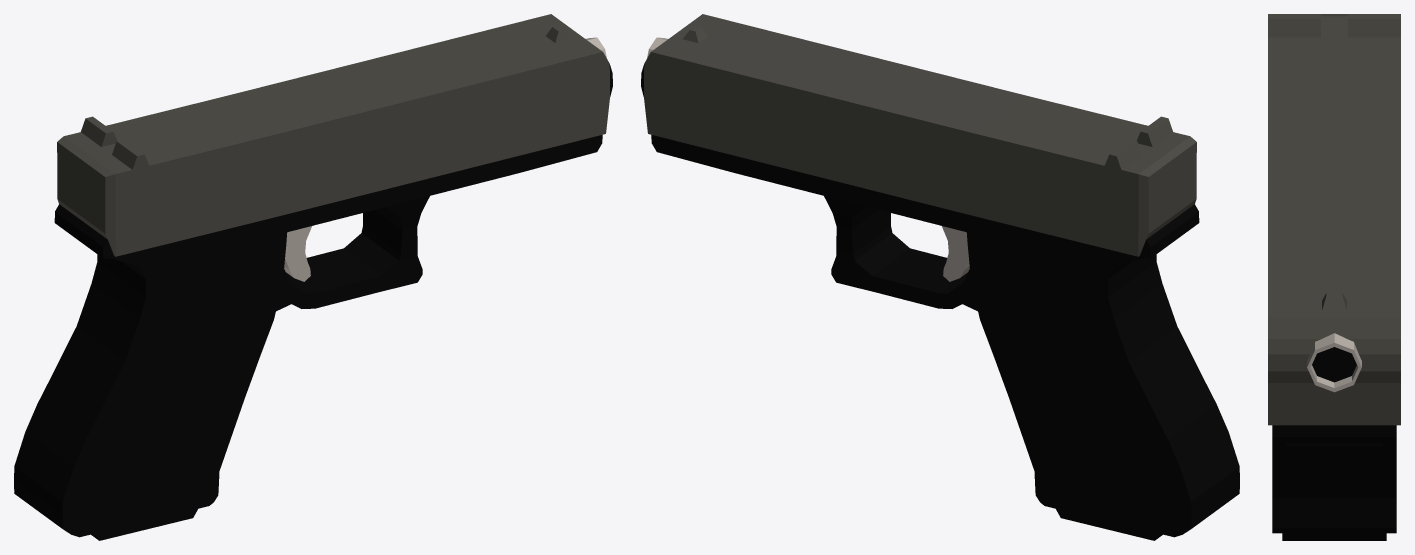
Rendered from pistol til vr.fbx.
The picture shows the model from 3 angles, left to right: view 1: azimuth 30°, elevation 25°; view 2: azimuth 150°, elevation 25°; view 3: azimuth 270°, elevation 25°; orthographic projection. The views are drawn at different scales.
Visible parts, largest first — view 1: Pistol; view 2: Pistol; view 3: Pistol.
Boxes of the visible parts, bbox=[...] form: Pistol: bbox=[14, 14, 612, 540]; Pistol: bbox=[641, 14, 1239, 540]; Pistol: bbox=[1268, 14, 1400, 540].
Bounding box in the file's own units: 772 × 503 × 124.
